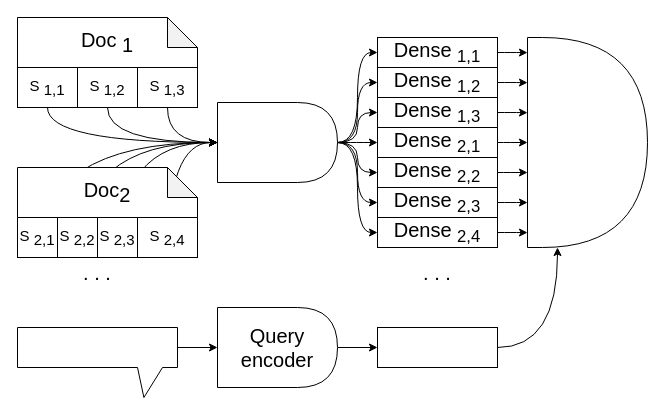
Some shapes in this 665 by 415 pixel diagram are drawn without their labels. Each missing label, with the centre of its shape:
Dense q: [437,347]
Document encoder: [277,142]
Maximum similarity search: [587,142]
Who did Q.. ?: [97,362]
